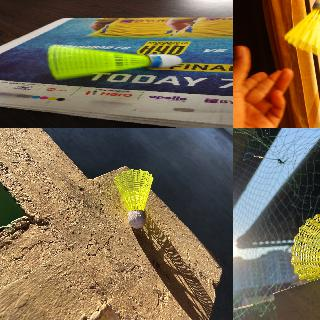shuttlecock: (47, 46, 181, 80), (115, 168, 153, 228), (290, 213, 319, 281), (284, 0, 319, 56)
